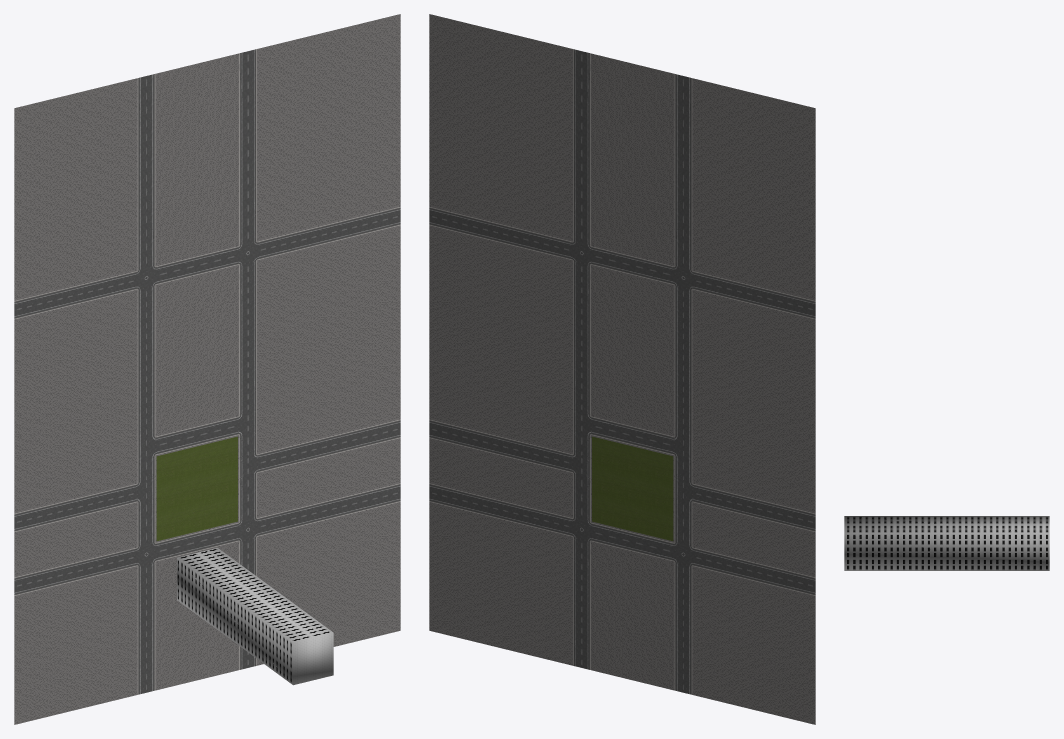
Rendered from stage-2-2.fbx.
The picture shows the model from 3 angles, left to right: view 1: azimuth 30°, elevation 25°; view 2: azimuth 150°, elevation 25°; view 3: azimuth 270°, elevation 25°; orthographic projection. The views are drawn at different scales.
Parts seen in each view (by area): view 1: Ground; view 2: Ground; view 3: Ground.
Part boxes in pixels (x1=…): Ground: x1=14, y1=14, x2=400, y2=724; Ground: x1=429, y1=14, x2=815, y2=724; Ground: x1=844, y1=516, x2=1049, y2=570.
Size of the model in its own units: 190 by 290 by 99.
Materials: 7 (7 with a texture image).
